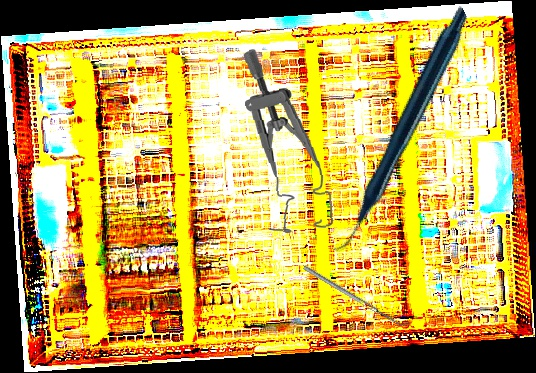Handpiece: (261, 4, 536, 254)
Spatula Surgical: (302, 261, 411, 331)
Speculum: (241, 44, 334, 237)
